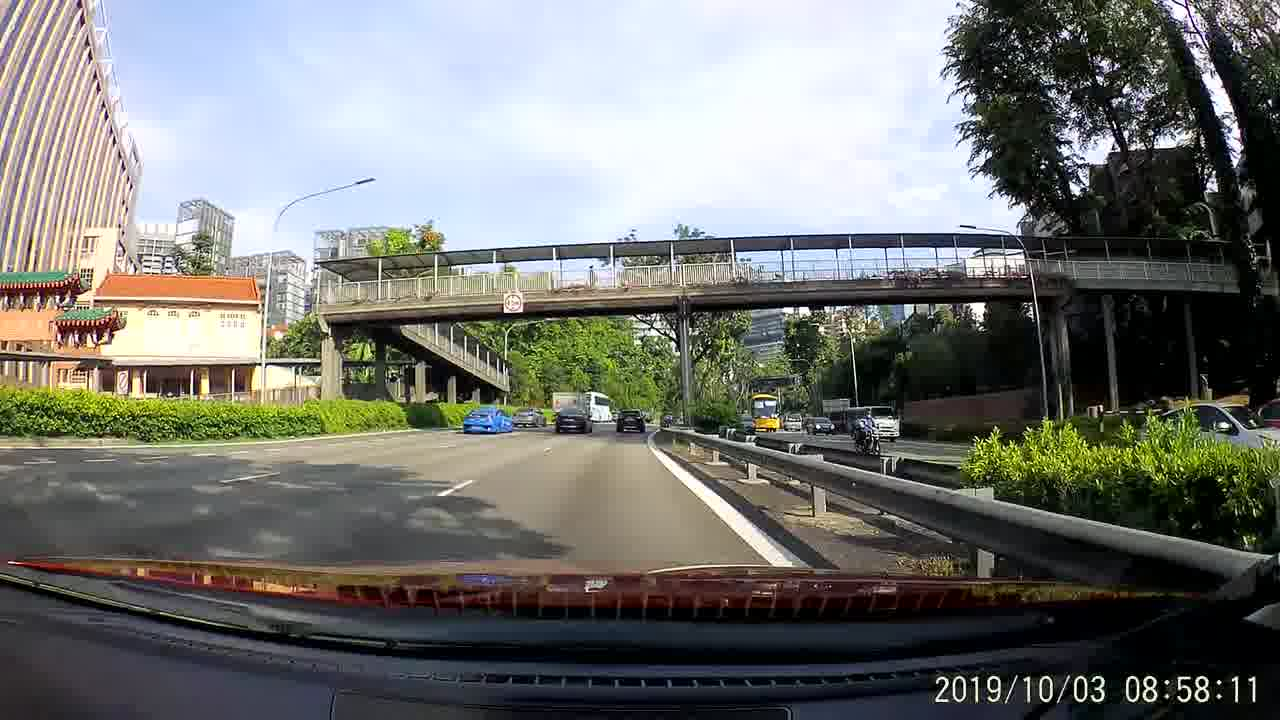bus: (745, 392, 784, 435), (511, 406, 548, 429)
car: (464, 401, 513, 437), (555, 405, 595, 436), (510, 403, 545, 430), (613, 408, 646, 436), (804, 411, 835, 434)
